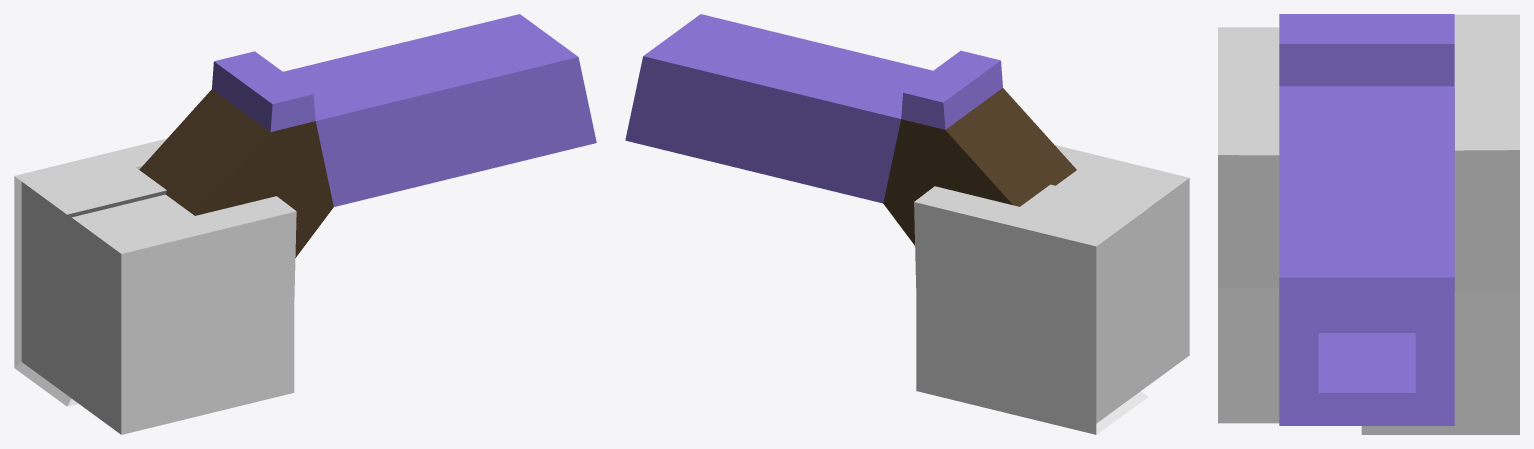
The model's file is Gun.fbx.
3 views of the same model, side by side, from view 1: azimuth 30°, elevation 25°; view 2: azimuth 150°, elevation 25°; view 3: azimuth 270°, elevation 25° (orthographic). The views are drawn at different scales.
Visible parts, largest first — view 1: Cube.001; view 2: Cube.001; view 3: Cube.001.
Boxes of the visible parts, x1,y1,x2,y2 form: Cube.001: (14, 14, 596, 434); Cube.001: (625, 14, 1189, 434); Cube.001: (1218, 14, 1519, 434).
Bounding box in the file's own units: 182 × 96.76 × 63.52.
